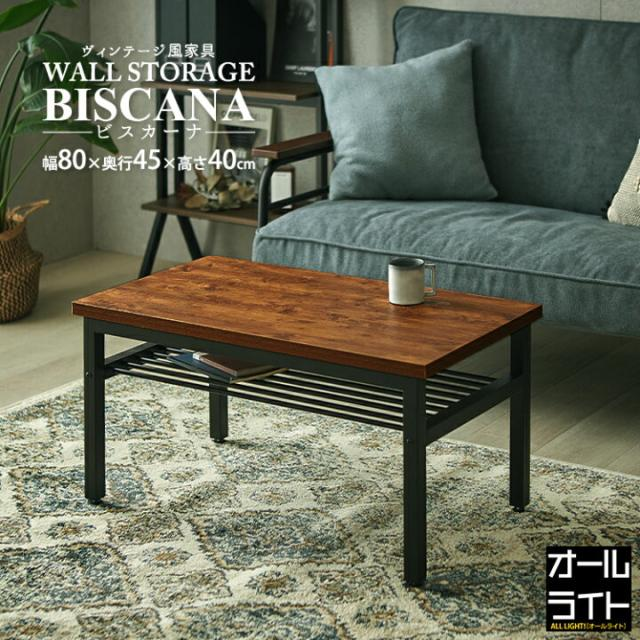vintage desk: (63, 227, 566, 593)
